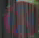No Stopping: (2, 0, 37, 36)
